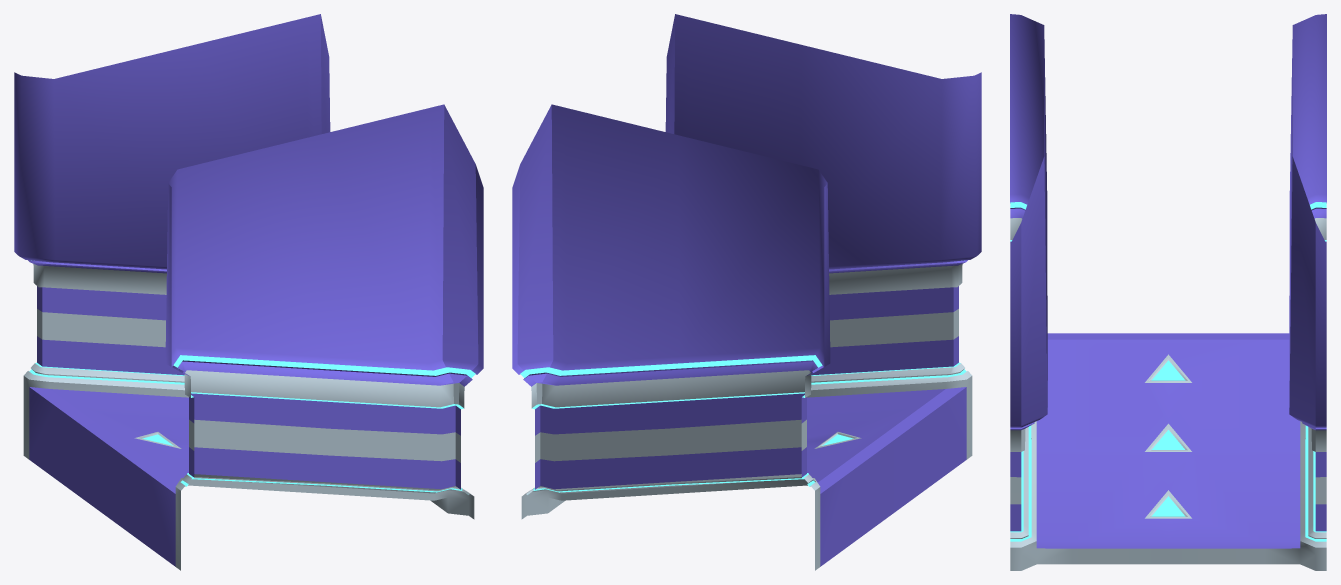
File: Ramp.fbx
3 renders of one model, left to right at view 1: azimuth 30°, elevation 25°; view 2: azimuth 150°, elevation 25°; view 3: azimuth 270°, elevation 25°, orthographic.
Parts seen in each view (by area): view 1: Movement_Area.002; view 2: Movement_Area.002; view 3: Movement_Area.002.
Boxes of the visible parts, x1,y1,x2,y2 form: Movement_Area.002: (14, 14, 483, 570); Movement_Area.002: (512, 14, 981, 570); Movement_Area.002: (1010, 14, 1326, 570).
Size of the model in its own units: 1695 by 2102 by 1478.
